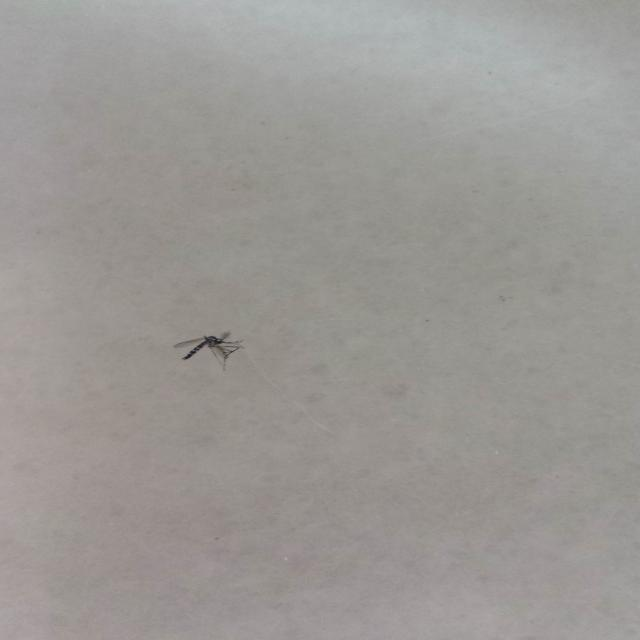albopictus: (170, 326, 249, 371)
